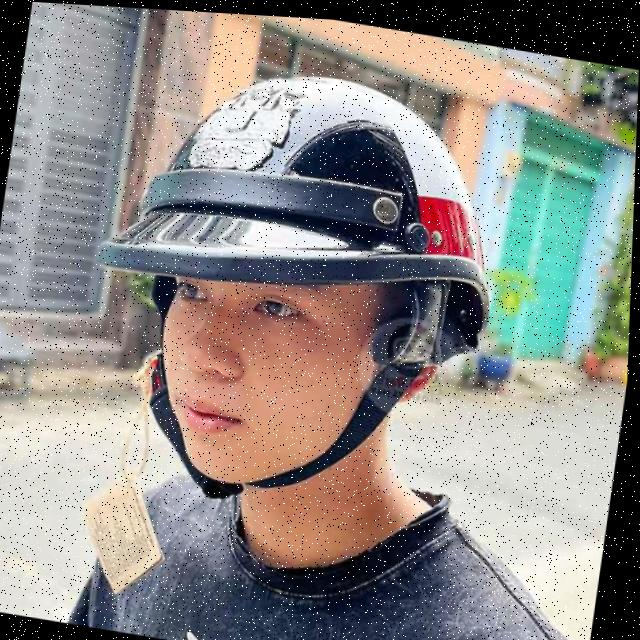helmet: (64, 31, 532, 544)
